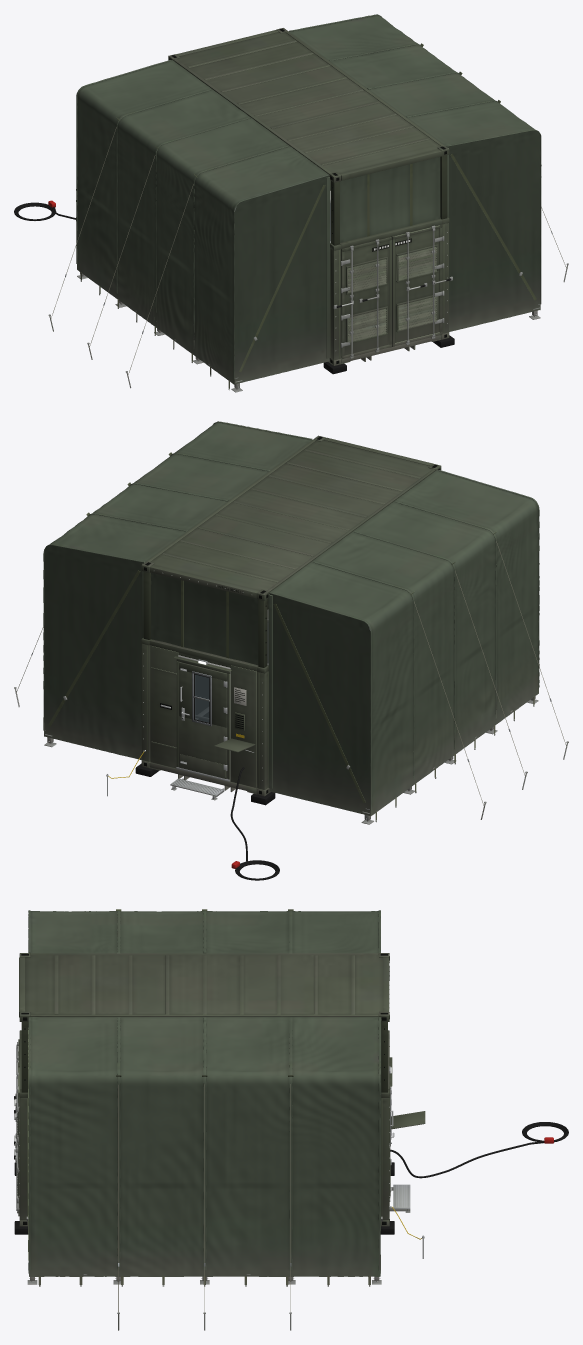
Rendered from ehmecc-ar.glb.
The picture shows the model from 3 angles, top to bottom: view 1: azimuth 30°, elevation 25°; view 2: azimuth 150°, elevation 25°; view 3: azimuth 270°, elevation 25°; orthographic projection. The views are drawn at different scales.
Visible parts, largest first — view 1: EHMECC_expansion_L, EHMECC_expansion_R, EHMECC_roof, EHMECC_core, EHMECC_roof_panels; view 2: EHMECC_expansion_L, EHMECC_expansion_R, EHMECC_roof, EHMECC_core, EHMECC_roof_panels, EHMECC_site_kit; view 3: EHMECC_expansion_R, EHMECC_roof, EHMECC_expansion_L, EHMECC_core, EHMECC_site_kit.
Boxes of the visible parts, <box> form: EHMECC_expansion_L: <box>48,59,330,392</box>; EHMECC_expansion_R: <box>288,14,568,331</box>; EHMECC_roof: <box>168,28,449,245</box>; EHMECC_core: <box>323,217,454,374</box>; EHMECC_roof_panels: <box>340,157,440,242</box>; EHMECC_expansion_L: <box>268,470,568,824</box>; EHMECC_expansion_R: <box>14,421,312,760</box>; EHMECC_roof: <box>141,435,441,667</box>; EHMECC_core: <box>135,638,275,805</box>; EHMECC_roof_panels: <box>151,573,258,665</box>; EHMECC_site_kit: <box>106,750,279,880</box>; EHMECC_expansion_R: <box>26,1017,382,1330</box>; EHMECC_roof: <box>19,953,389,1092</box>; EHMECC_expansion_L: <box>28,909,380,953</box>; EHMECC_core: <box>14,1030,425,1234</box>; EHMECC_site_kit: <box>389,1122,568,1258</box>.
Size of the model in its own units: 9.34 by 4.23 by 9.09.
22 materials, 7 textured.
